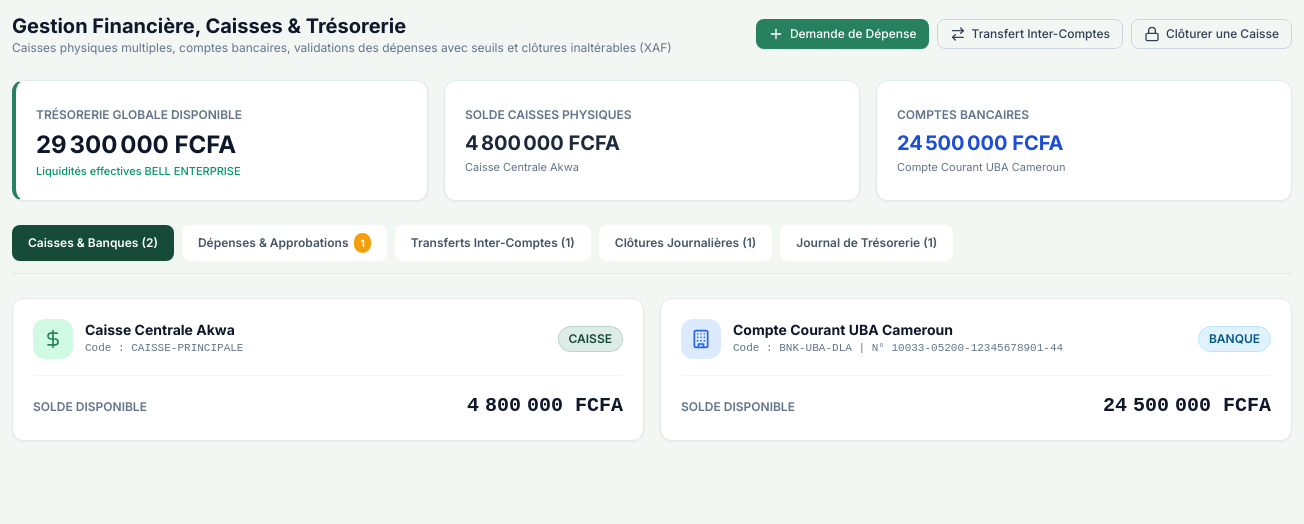
FinancePage en mode connecté › charge les comptes et les dépenses depuis Supabase
The width and height of the screenshot is (1304, 524).
Check: the text "Caisse Centrale Akwa" is shown, box x1=465 y1=160 x2=579 y2=174
Check: the text "4 800 000 FCFA" below "Solde Caisses Physiques" is shown, box x1=465 y1=131 x2=620 y2=155
What coordinates should you click on to do the following:
click the button "Dépenses & Approbations 1"
I would click on:
 (284, 242)
Its box is x1=182 y1=224 x2=387 y2=260.
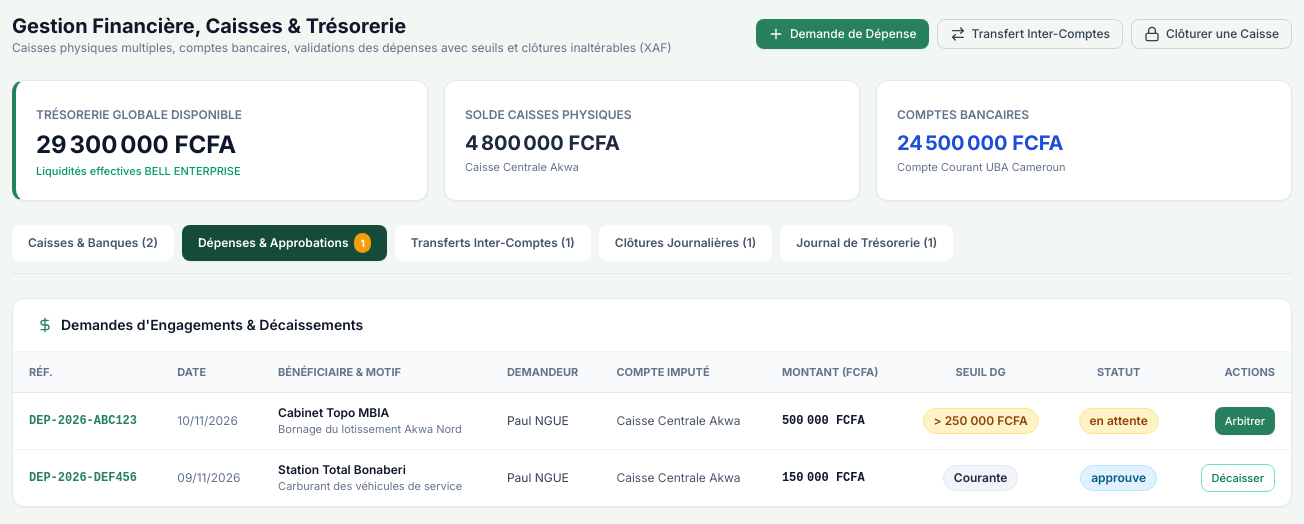
Check: the text "Caisse Centrale Akwa" is shown, box x1=465 y1=160 x2=579 y2=174
Check: the text "DEP-2026-ABC123" is shown, box x1=13 y1=392 x2=161 y2=449
Check: the text "Paul NGUE" is shown 2 times, box x1=491 y1=392 x2=600 y2=449; x1=491 y1=449 x2=600 y2=506
